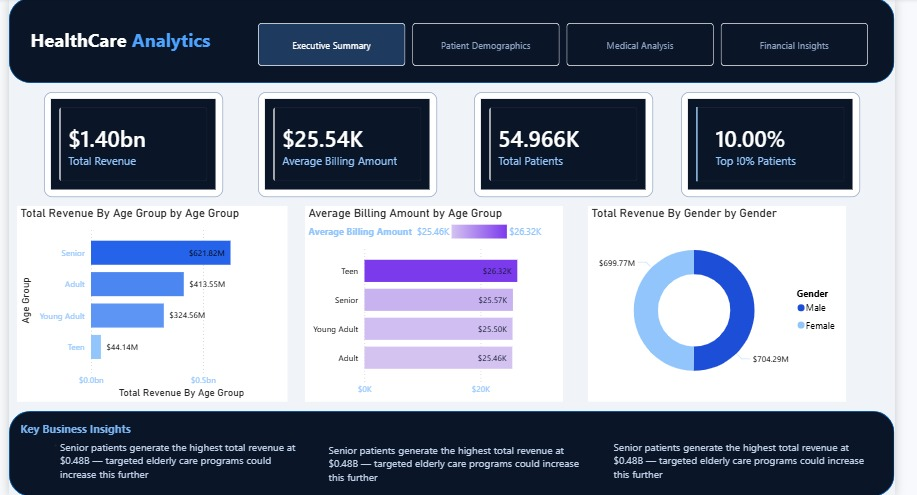

This screenshot's page, from the dashboard's own definition file:
{"tool":"powerbi","page":{"name":"Executive Summary","canvas":[1280,720],"ordinal":0},"visuals":[{"type":"shape","box":[0,596.7,1280,123.3],"z":0},{"type":"shape","box":[0,0,1280,122.9],"z":1000},{"type":"cardVisual","fields":{"Data":["Sum(healthcare_dataset.Billing Amount)"]},"box":[50.6,135.9,258.8,151.8],"z":2000},{"type":"textbox","box":[25.7,35.7,310,74.3],"z":3000},{"type":"pageNavigator","box":[360,35.7,885.7,62.9],"z":4000},{"type":"cardVisual","fields":{"Data":["Avg(healthcare_dataset.Billing Amount)"]},"box":[360,135.9,258.8,151.8],"z":5000},{"type":"cardVisual","fields":{"Data":["CountNonNull(healthcare_dataset.Name)"]},"box":[672.3,135.9,258.8,151.8],"z":6000},{"type":"cardVisual","fields":{"Data":["Sum(healthcare_dataset.top 10 percent)"]},"box":[971.6,135.9,258.8,151.8],"z":7000},{"type":"clusteredBarChart","fields":{"Category":["healthcare_dataset.Age Group"],"Y":["Avg(healthcare_dataset.Billing Amount)"]},"box":[428.6,301.4,372.9,282.9],"z":8000},{"type":"donutChart","fields":{"Y":["Sum(healthcare_dataset.Billing Amount)"],"Category":["healthcare_dataset.Gender"]},"box":[837.1,301.4,372.9,282.9],"z":9000},{"type":"clusteredBarChart","fields":{"Category":["healthcare_dataset.Age Group"],"Y":["Sum(healthcare_dataset.Billing Amount)"]},"box":[11.4,301.4,391.4,282.9],"z":10000},{"type":"textbox","box":[11.4,607.1,201.4,61.4],"z":11000},{"type":"textbox","box":[50,632.9,377.1,81.4],"z":12000},{"type":"textbox","box":[868.6,632.9,377.1,71.4],"z":13000},{"type":"textbox","box":[457.1,637.1,380,82.9],"z":14000}]}

Visuals, with their boxes on the page's 1280x720 design canvas (x1, y1, x2, y2). These are canvas units, not pixel positions in the 917x495 screenshot, which may show the page scaled, cropped or inside an application window:
shape: locate(0, 597, 1280, 720)
shape: locate(0, 0, 1280, 123)
cardVisual - Sum(healthcare_dataset.Billing Amount): locate(51, 136, 309, 288)
textbox: locate(26, 36, 336, 110)
pageNavigator: locate(360, 36, 1246, 99)
cardVisual - Avg(healthcare_dataset.Billing Amount): locate(360, 136, 619, 288)
cardVisual - CountNonNull(healthcare_dataset.Name): locate(672, 136, 931, 288)
cardVisual - Sum(healthcare_dataset.top 10 percent): locate(972, 136, 1230, 288)
clusteredBarChart - healthcare_dataset.Age Group x Avg(healthcare_dataset.Billing Amount): locate(429, 301, 802, 584)
donutChart - Sum(healthcare_dataset.Billing Amount) x healthcare_dataset.Gender: locate(837, 301, 1210, 584)
clusteredBarChart - healthcare_dataset.Age Group x Sum(healthcare_dataset.Billing Amount): locate(11, 301, 403, 584)
textbox: locate(11, 607, 213, 668)
textbox: locate(50, 633, 427, 714)
textbox: locate(869, 633, 1246, 704)
textbox: locate(457, 637, 837, 720)
